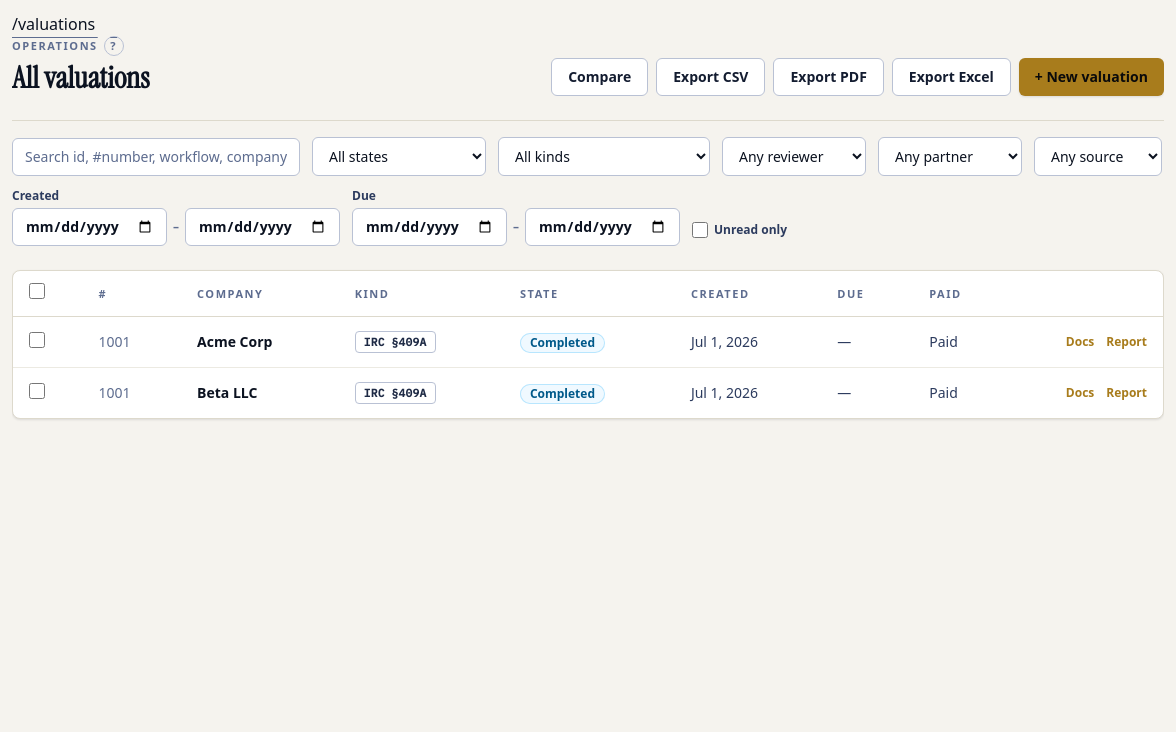
Test: ValuationsPage — opening a valuation from the table › keeps building the selection across rows
Click the checkbox named "Select Acme Corp" at (37, 340), box [29,332,45,348]
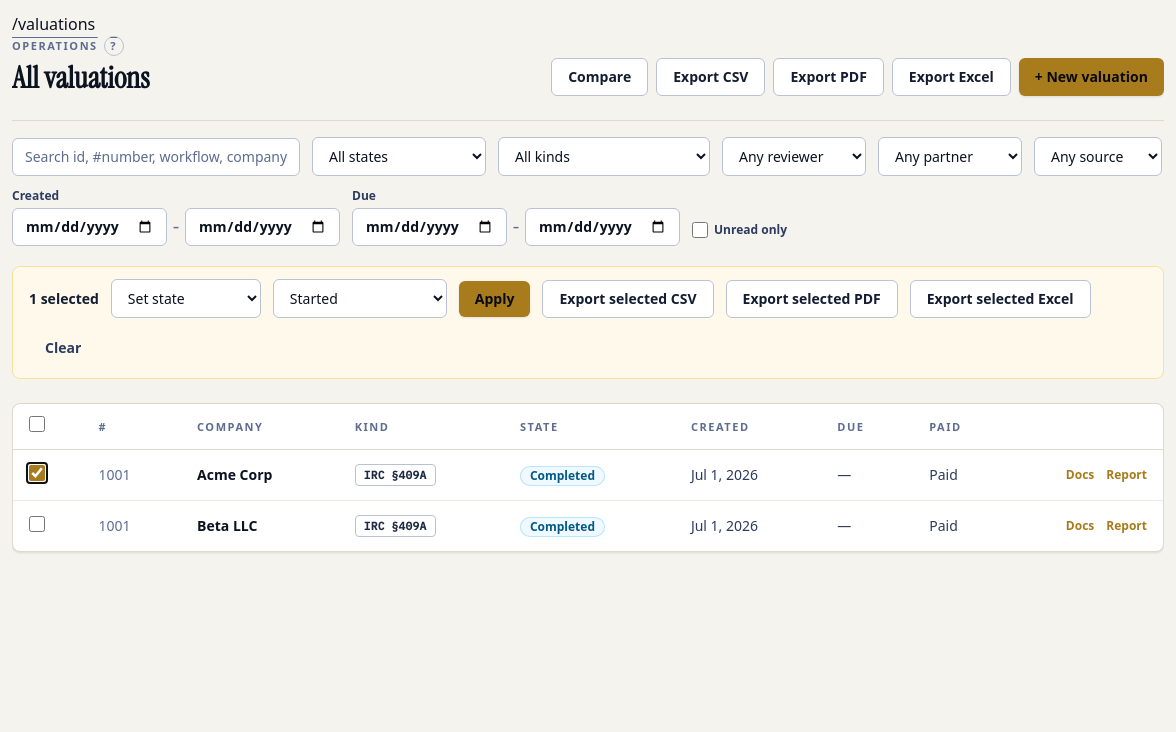
Click the checkbox named "Select Beta LLC" at (37, 524), box [29,516,45,532]
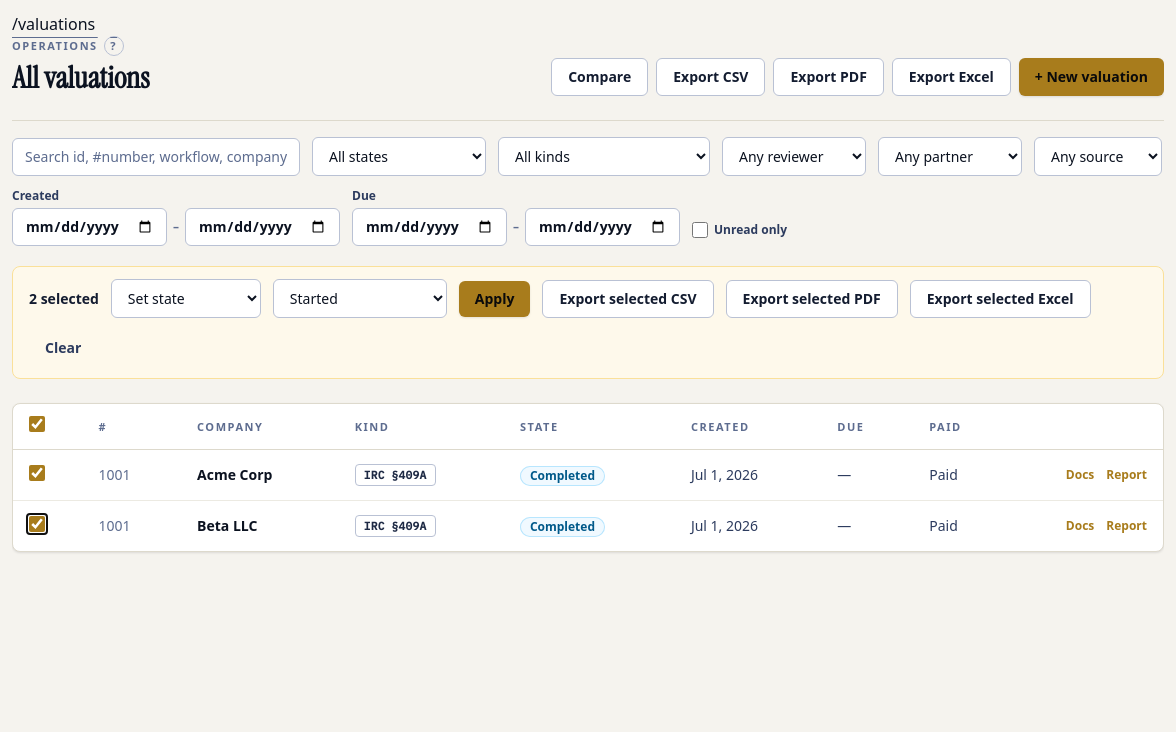
Expected: the text with test id "where" reads "/valuations", [12,13,95,35]
Expected: the text "2 selected" is shown, [29,288,99,308]
